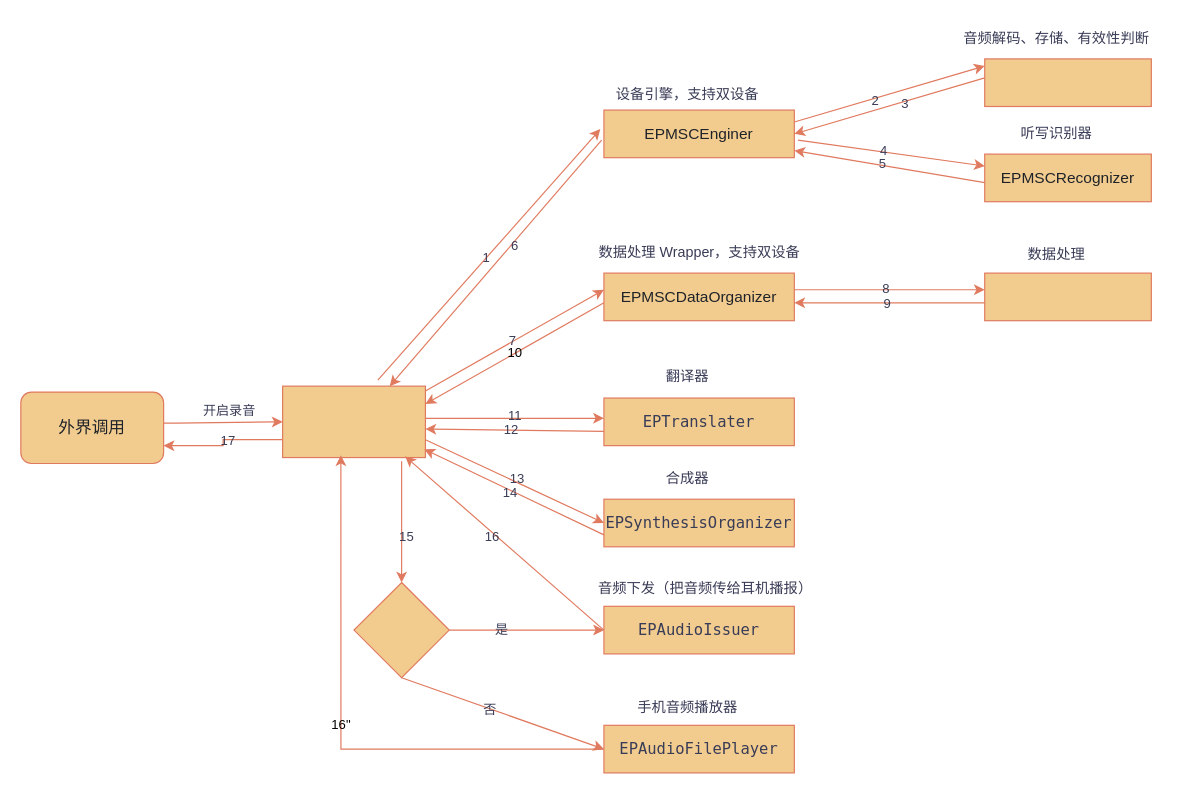
This 1184x794 diagram has some shape labels left out. Each missing label, with the centre of its shape:
EPAudioProcessor: the point at 1067,82
EPMSCDataProcessor: the point at 1067,296
EPMSCRecorder: the point at 353,421
耳机？: the point at 401,629
